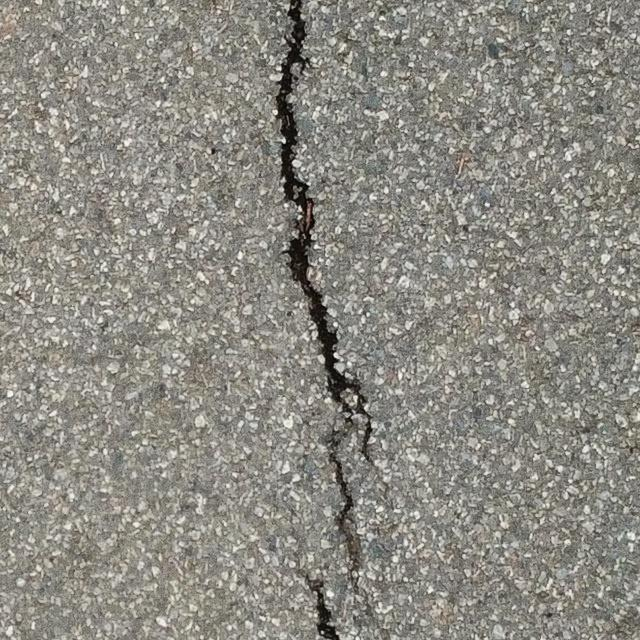LongitudinalCrack: (275, 1, 372, 534), (304, 570, 337, 640)
